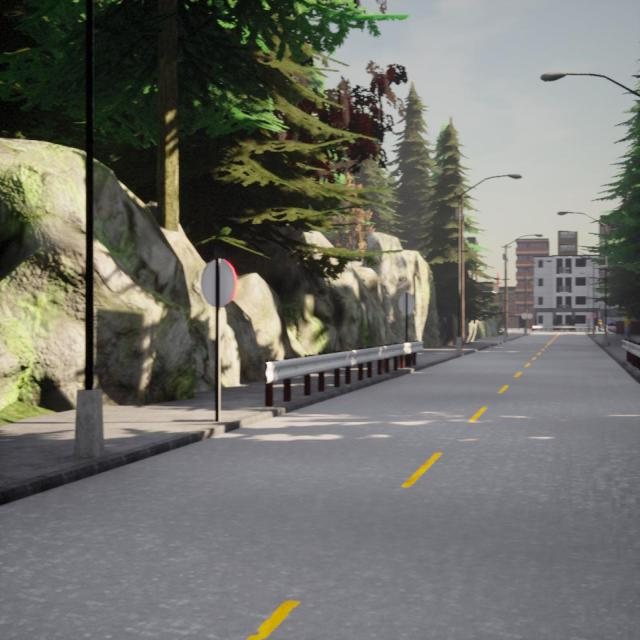Pedestrian: (624, 312, 631, 342), (597, 317, 603, 332)
Traffic_Signs: (201, 258, 237, 308), (398, 293, 415, 315), (521, 312, 527, 320), (528, 314, 533, 320)
Vehicle: (608, 320, 616, 326)
